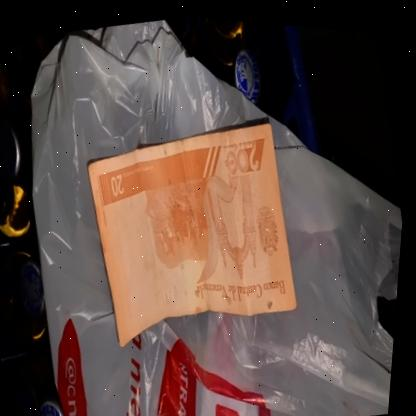twenty-back-vef: (74, 104, 316, 359)
